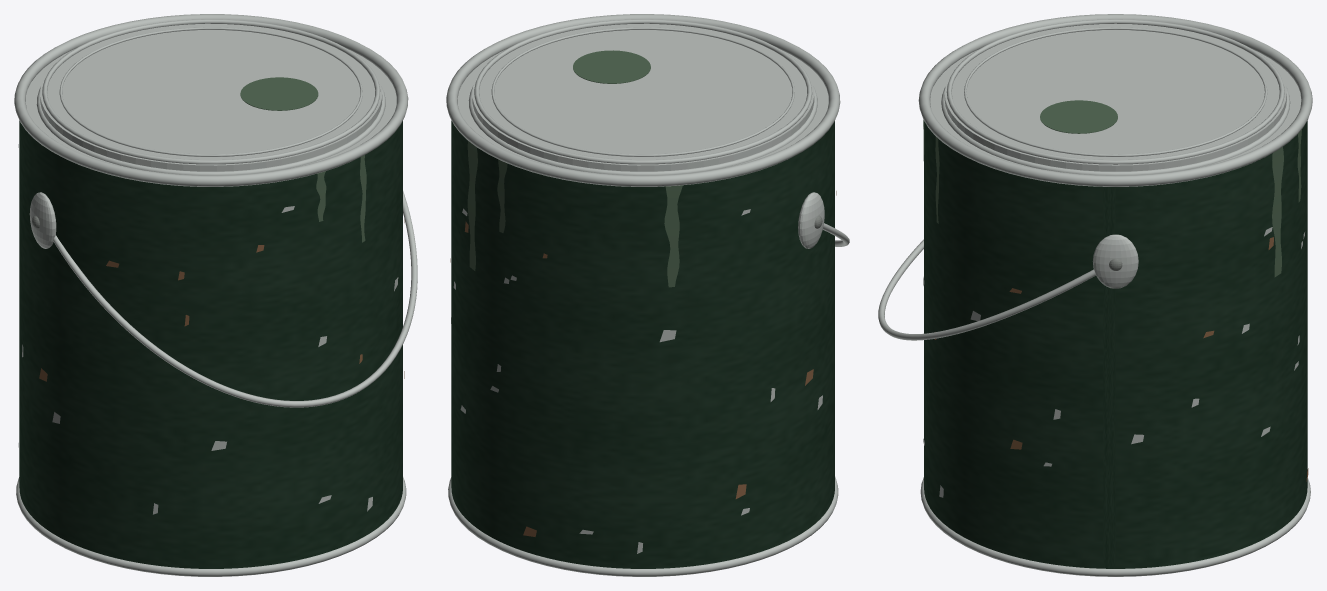
File: discarded_paint_tin.glb
3 views of the same model, side by side, from view 1: azimuth 30°, elevation 25°; view 2: azimuth 150°, elevation 25°; view 3: azimuth 270°, elevation 25° (orthographic).
Visible parts, largest first — view 1: Enamel outside, Separate press-fit lid, Rolled upper outside seam, Wire bail | folded to rear, Lid rolled bead, Bottom rolled seam, Lid stamped inner ring, Upper inner press-fit lip, Lid paint stain, Pressed top ring, Left bail lug; view 2: Enamel outside, Separate press-fit lid, Rolled upper outside seam, Lid rolled bead, Bottom rolled seam, Lid stamped inner ring, Upper inner press-fit lip, Lid paint stain, Pressed top ring, Dried paint run 02, Left bail lug, Dried paint run 00; view 3: Enamel outside, Separate press-fit lid, Rolled upper outside seam, Lid rolled bead, Bottom rolled seam, Wire bail | folded to rear, Lid stamped inner ring, Upper inner press-fit lip, Lid paint stain, Pressed top ring, Right bail lug, Dried paint run 00.
Part boxes in pixels (x1=…): Enamel outside: x1=19, y1=120, x2=402, y2=568; Separate press-fit lid: x1=40, y1=23, x2=382, y2=171; Rolled upper outside seam: x1=14, y1=14, x2=408, y2=186; Wire bail | folded to rear: x1=53, y1=191, x2=417, y2=407; Lid rolled bead: x1=42, y1=19, x2=380, y2=164; Bottom rolled seam: x1=16, y1=477, x2=406, y2=576; Lid stamped inner ring: x1=59, y1=27, x2=362, y2=156; Upper inner press-fit lip: x1=36, y1=86, x2=385, y2=175; Lid paint stain: x1=240, y1=77, x2=318, y2=110; Pressed top ring: x1=25, y1=49, x2=396, y2=167; Left bail lug: x1=29, y1=192, x2=56, y2=248; Enamel outside: x1=451, y1=120, x2=834, y2=568; Separate press-fit lid: x1=472, y1=23, x2=814, y2=171; Rolled upper outside seam: x1=446, y1=14, x2=840, y2=186; Lid rolled bead: x1=474, y1=19, x2=812, y2=164; Bottom rolled seam: x1=448, y1=476, x2=838, y2=576; Lid stamped inner ring: x1=491, y1=27, x2=794, y2=156; Upper inner press-fit lip: x1=468, y1=86, x2=817, y2=175; Lid paint stain: x1=573, y1=50, x2=650, y2=83; Pressed top ring: x1=457, y1=49, x2=828, y2=167; Dried paint run 02: x1=664, y1=185, x2=682, y2=287; Left bail lug: x1=798, y1=192, x2=824, y2=248; Dried paint run 00: x1=467, y1=141, x2=477, y2=270; Enamel outside: x1=924, y1=121, x2=1307, y2=568; Separate press-fit lid: x1=944, y1=23, x2=1286, y2=171; Rolled upper outside seam: x1=918, y1=14, x2=1312, y2=186; Lid rolled bead: x1=946, y1=19, x2=1284, y2=164; Bottom rolled seam: x1=920, y1=477, x2=1310, y2=576; Wire bail | folded to rear: x1=878, y1=239, x2=1095, y2=340; Lid stamped inner ring: x1=964, y1=27, x2=1267, y2=156; Upper inner press-fit lip: x1=941, y1=86, x2=1290, y2=175; Lid paint stain: x1=1040, y1=100, x2=1117, y2=133; Pressed top ring: x1=930, y1=49, x2=1301, y2=167; Right bail lug: x1=1092, y1=234, x2=1138, y2=288; Dried paint run 00: x1=1272, y1=147, x2=1283, y2=277.
Bounding box in the file's own units: 0.179 × 0.1949 × 0.1892.
Materials: 5 (1 with a texture image).
